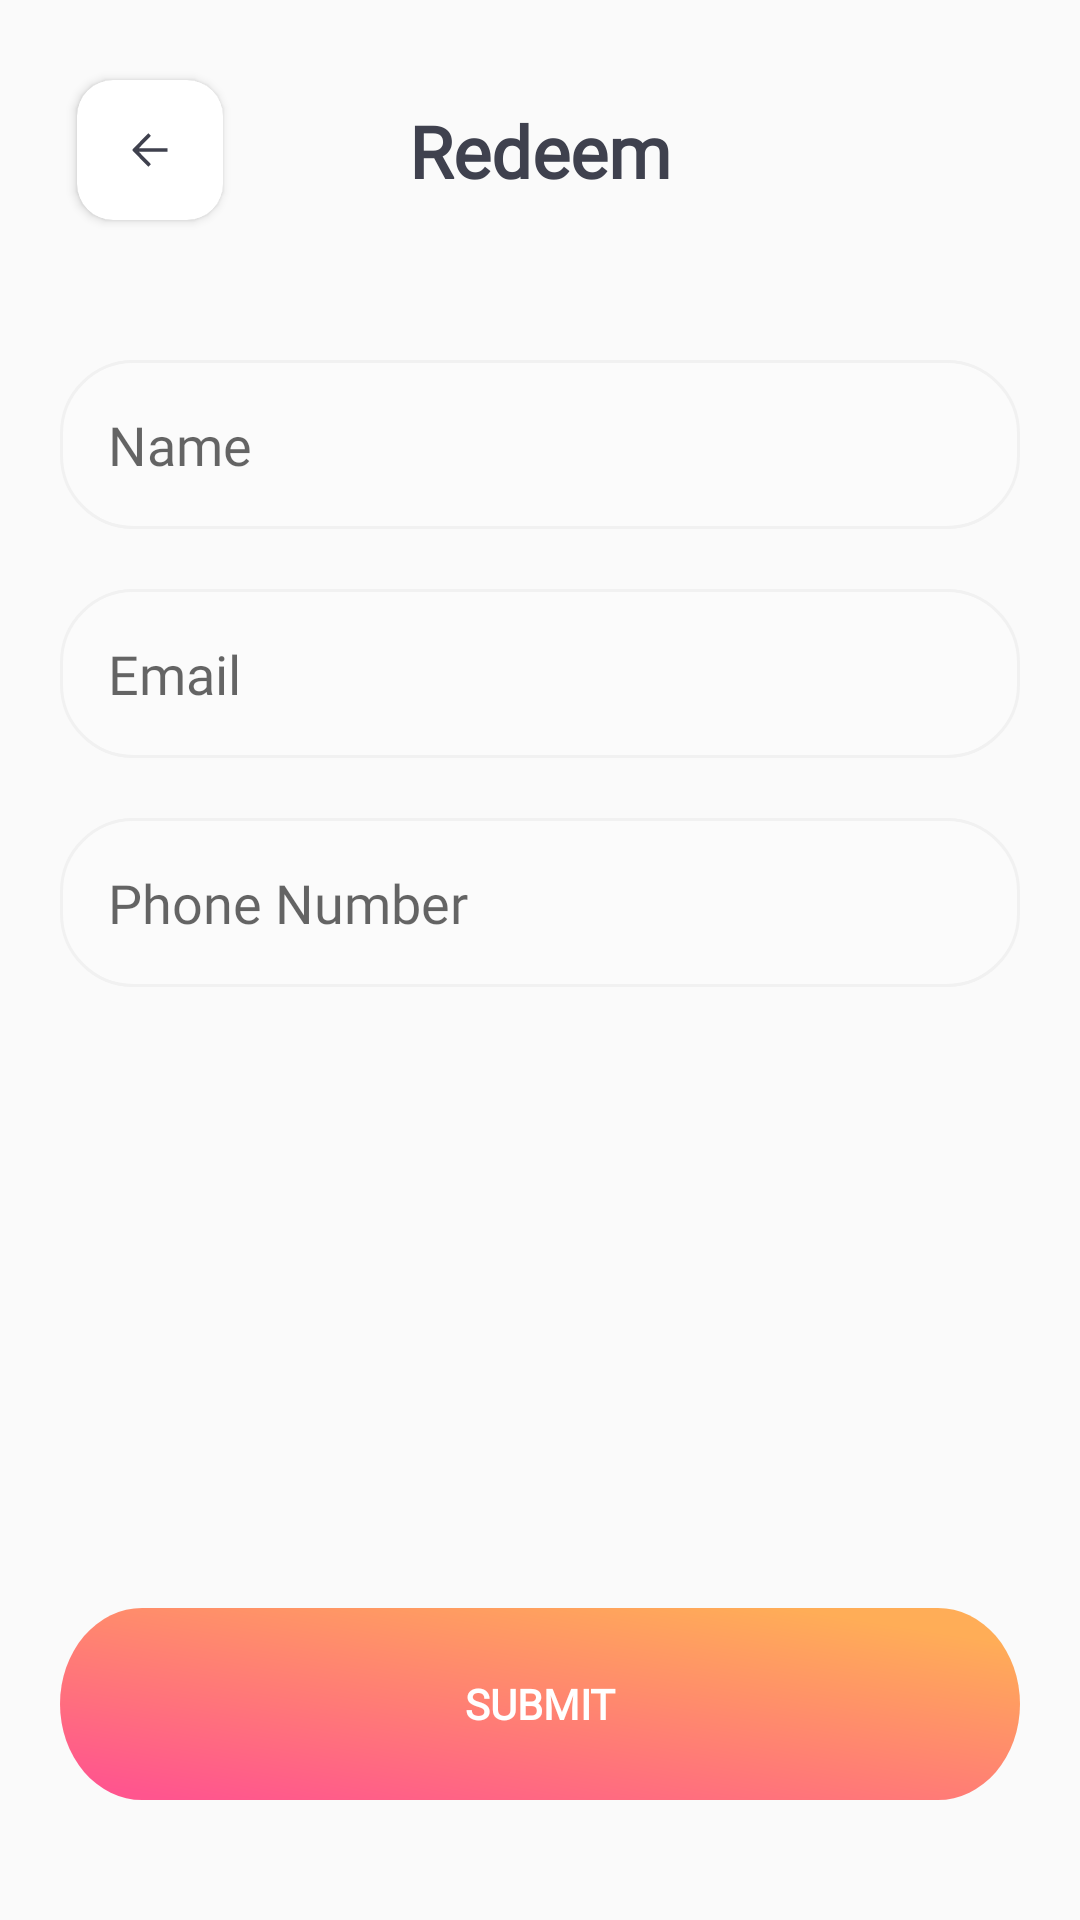

Screen size 1080 × 1920. Icon name, then its center in pixels as (x,y):
back: (150,150)
